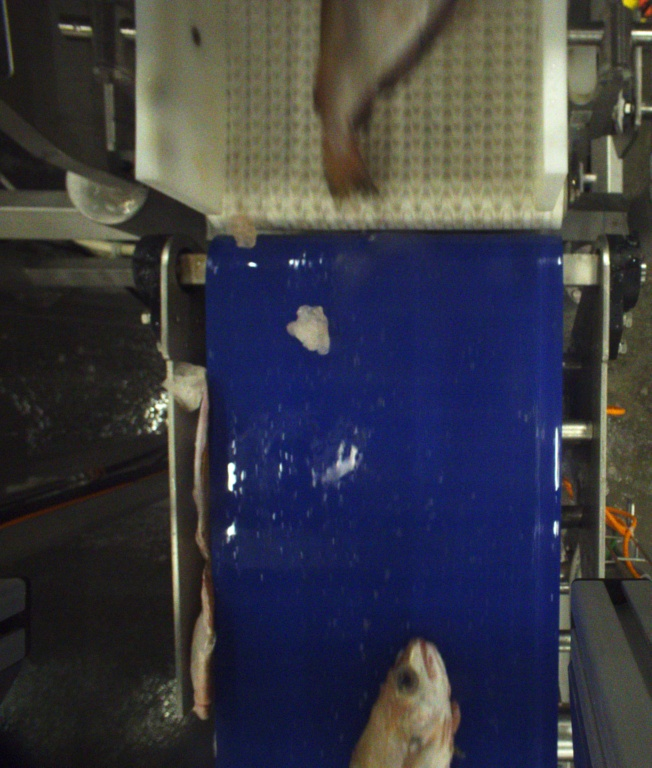BIB: (338, 634, 468, 768)
